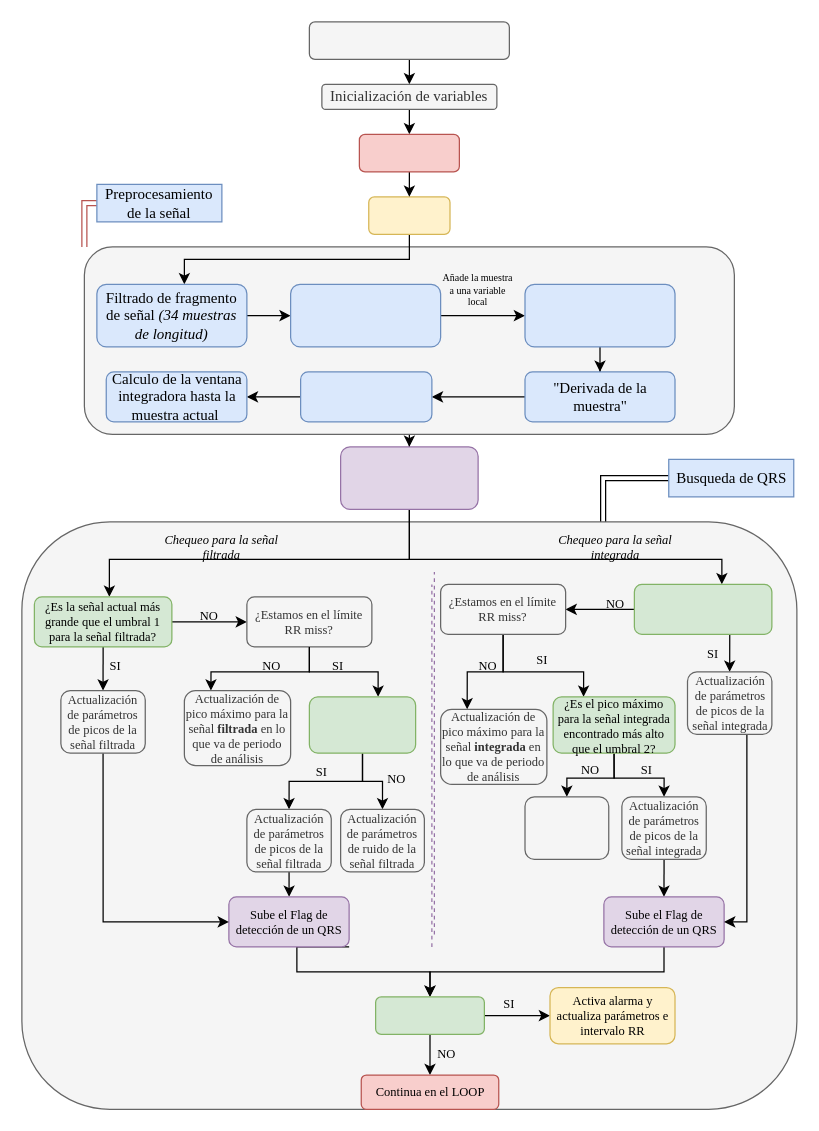
Some shapes in this 819 by 1131 pixel diagram are drawn without their labels. Each missing label, with the centre of its shape:
Actualización de la señal local filtrada: [599,315]
Actualización de parámetros de ruido de la señal integrada: [566,827]
Cuadrado de la muestra derivada: [365,396]
Entrada de muestra: [409,215]
Extracción de la muestra de entrada filtrada: [365,315]
Loop de simulación: [408,152]
Preprocesamiento de los 2 segundos iniciales de la señal: [408,40]
¿Ambos flags indican QRS?: [429,1015]
¿Es el pico máximo para la señal filtrada encontrado más alto que el umbral 2?: [362,724]
¿Es la señal actual más grande que el umbral 1 para la señal integrada?: [702,608]
¿La muestra es un pico de complejo QRS?: [408,477]
